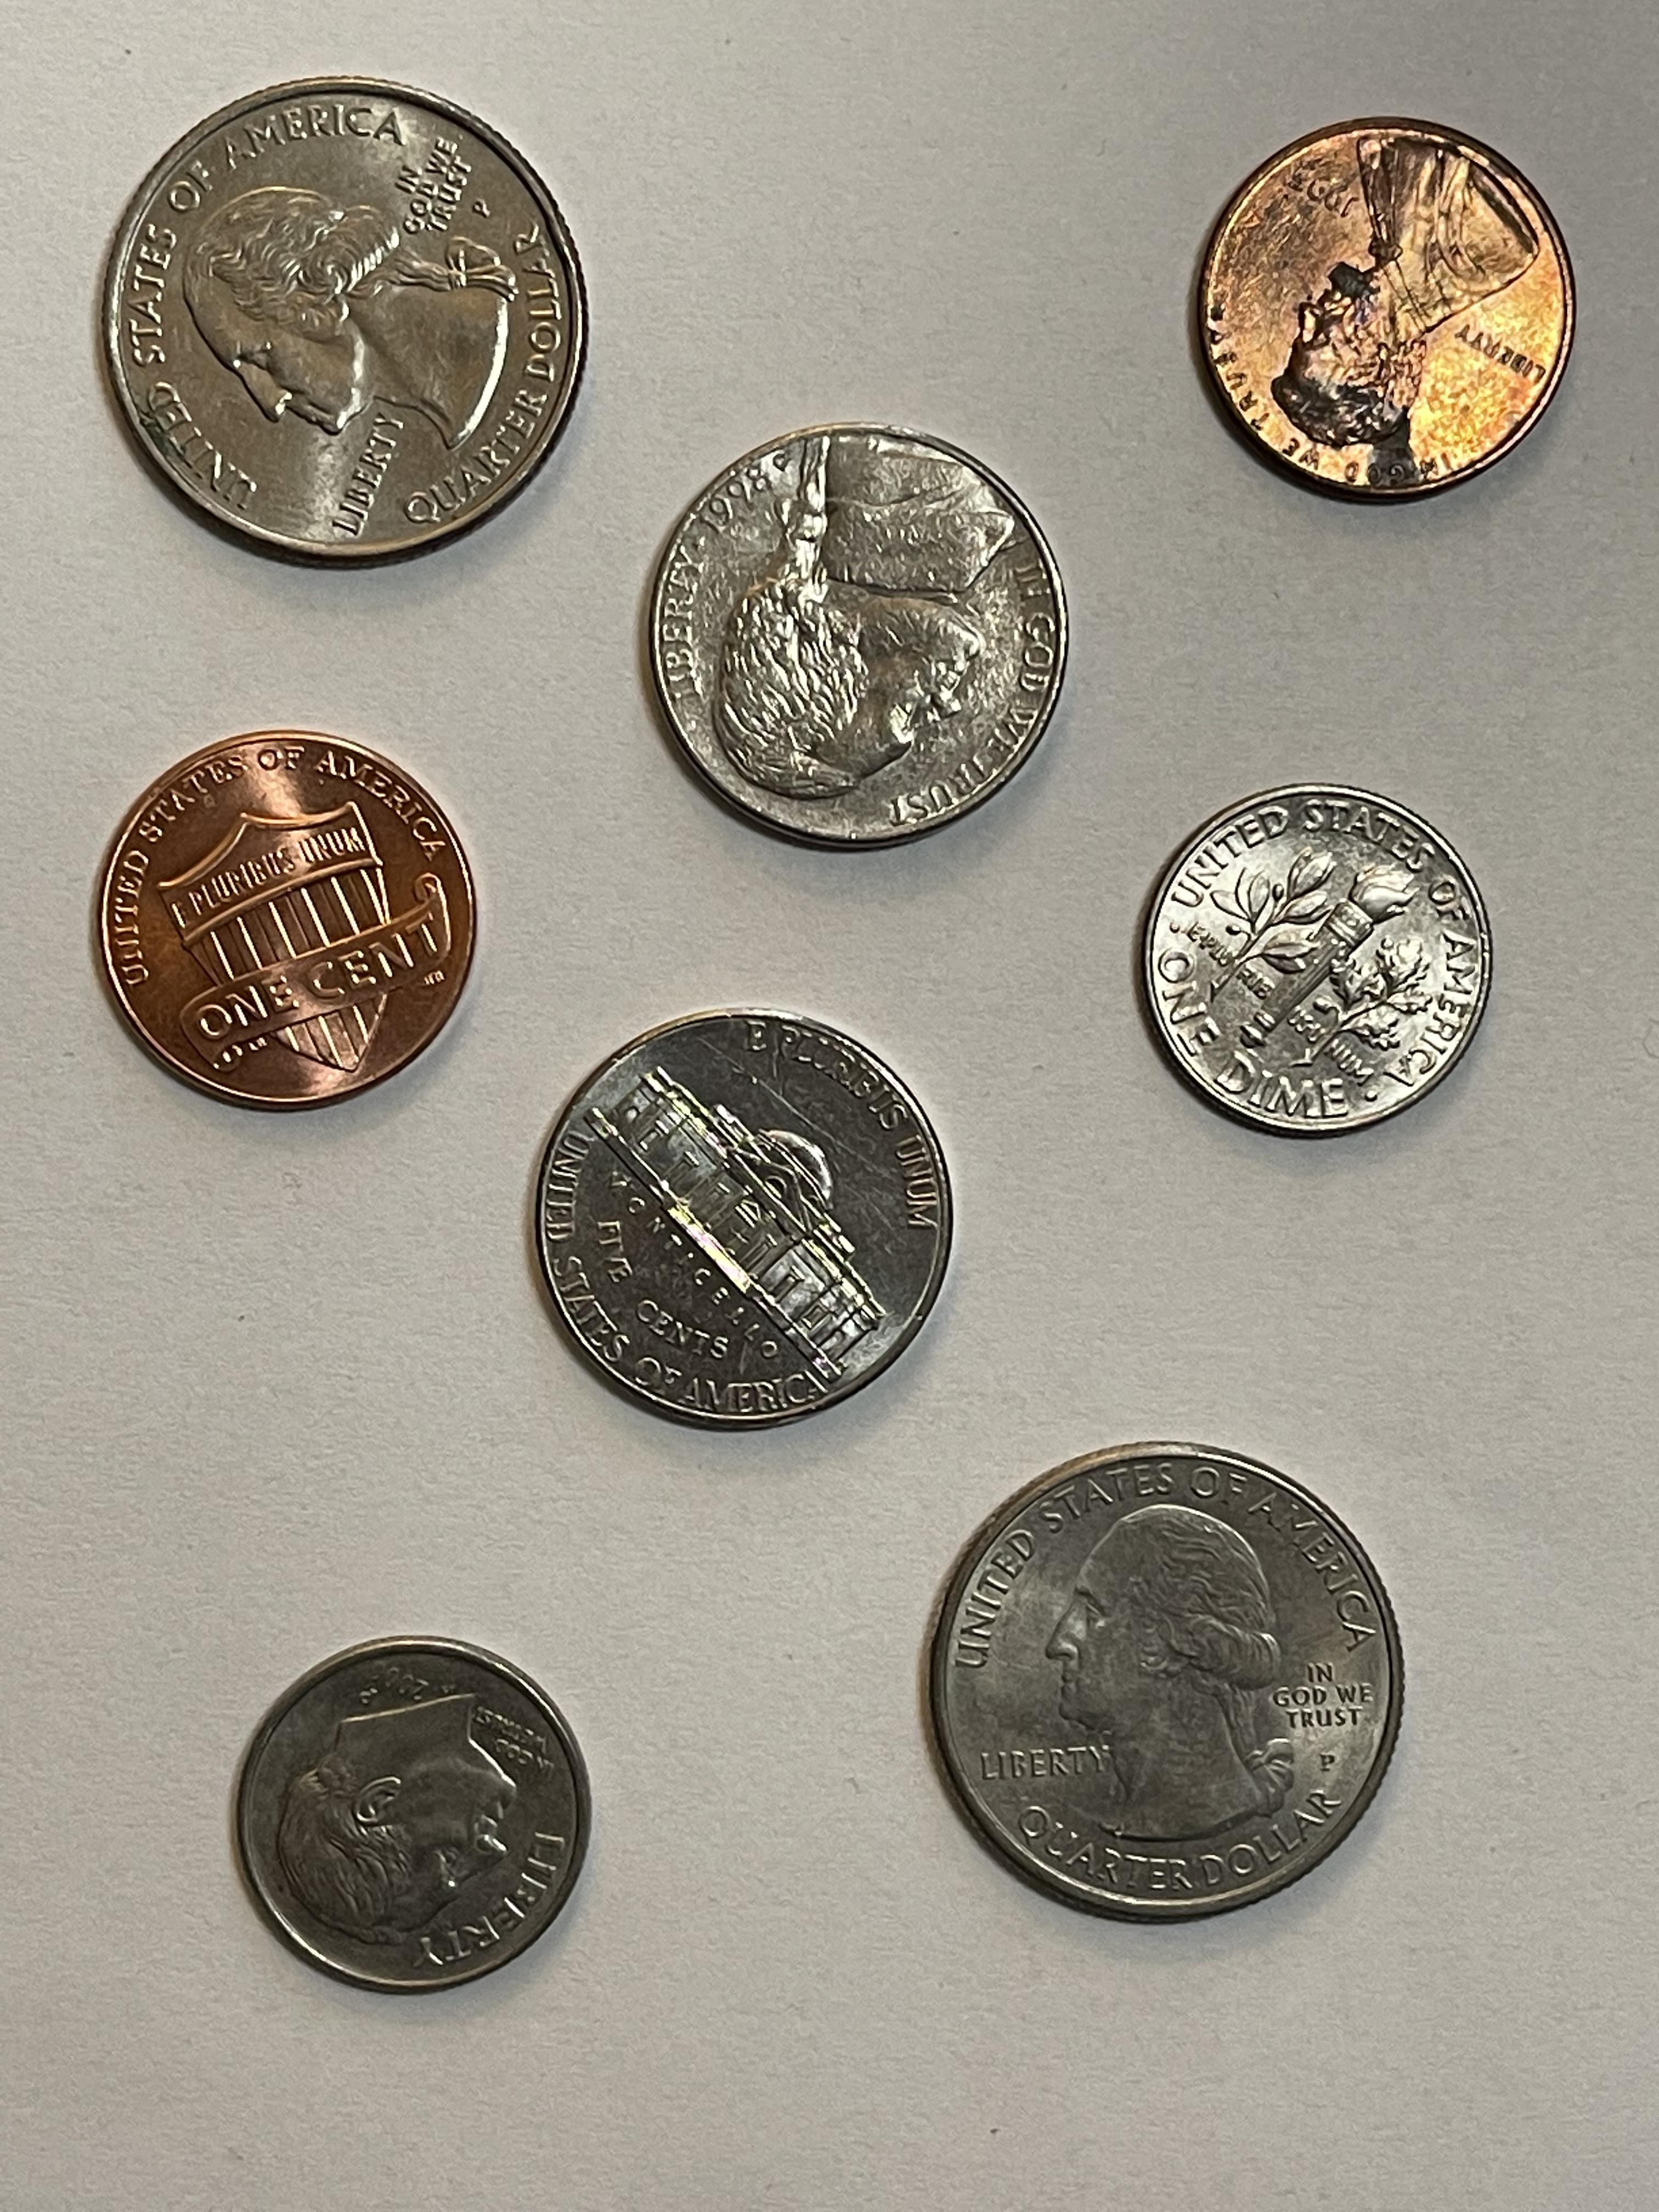Dime: (235, 1632, 594, 1998), (1140, 780, 1495, 1139)
Nickel: (645, 418, 1072, 855), (533, 1005, 957, 1435)
Penny: (1194, 113, 1579, 505), (96, 730, 479, 1116)
Quarter: (98, 71, 592, 563), (927, 1437, 1410, 1925)
